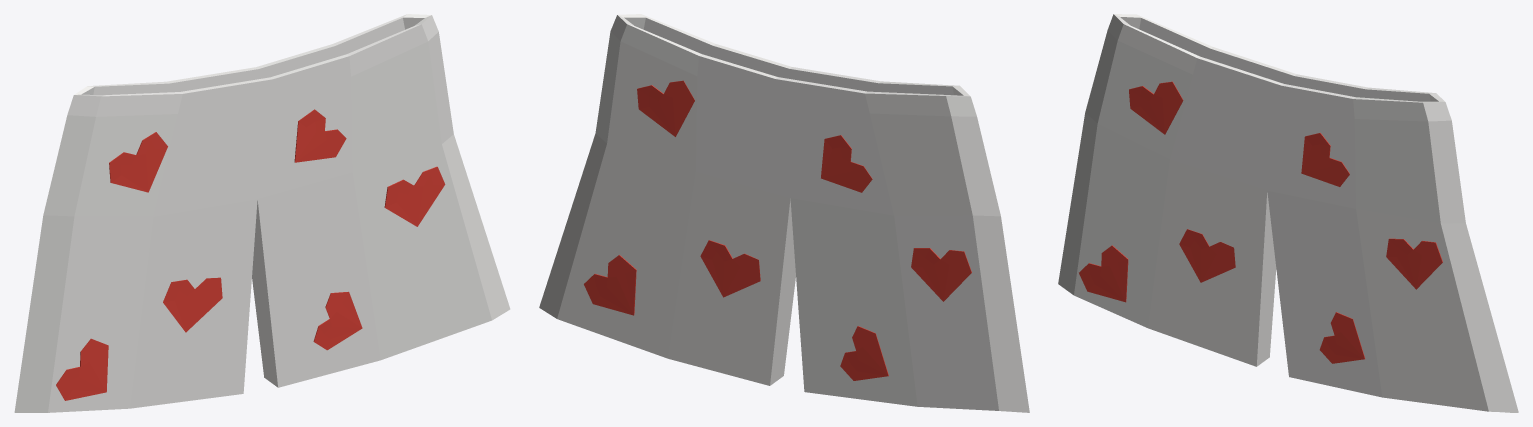
Rendered from Underpants.fbx.
3 renders of one model, left to right at view 1: azimuth 30°, elevation 25°; view 2: azimuth 150°, elevation 25°; view 3: azimuth 330°, elevation 25°, orthographic. The views are drawn at different scales.
Parts seen in each view (by area): view 1: Underpants; view 2: Underpants; view 3: Underpants.
Part boxes in pixels (<box>): Underpants: <box>14,14,510,412</box>; Underpants: <box>539,14,1029,412</box>; Underpants: <box>1058,14,1518,412</box>.
Size of the model in its own units: 96.01 by 5.9 by 62.07.
